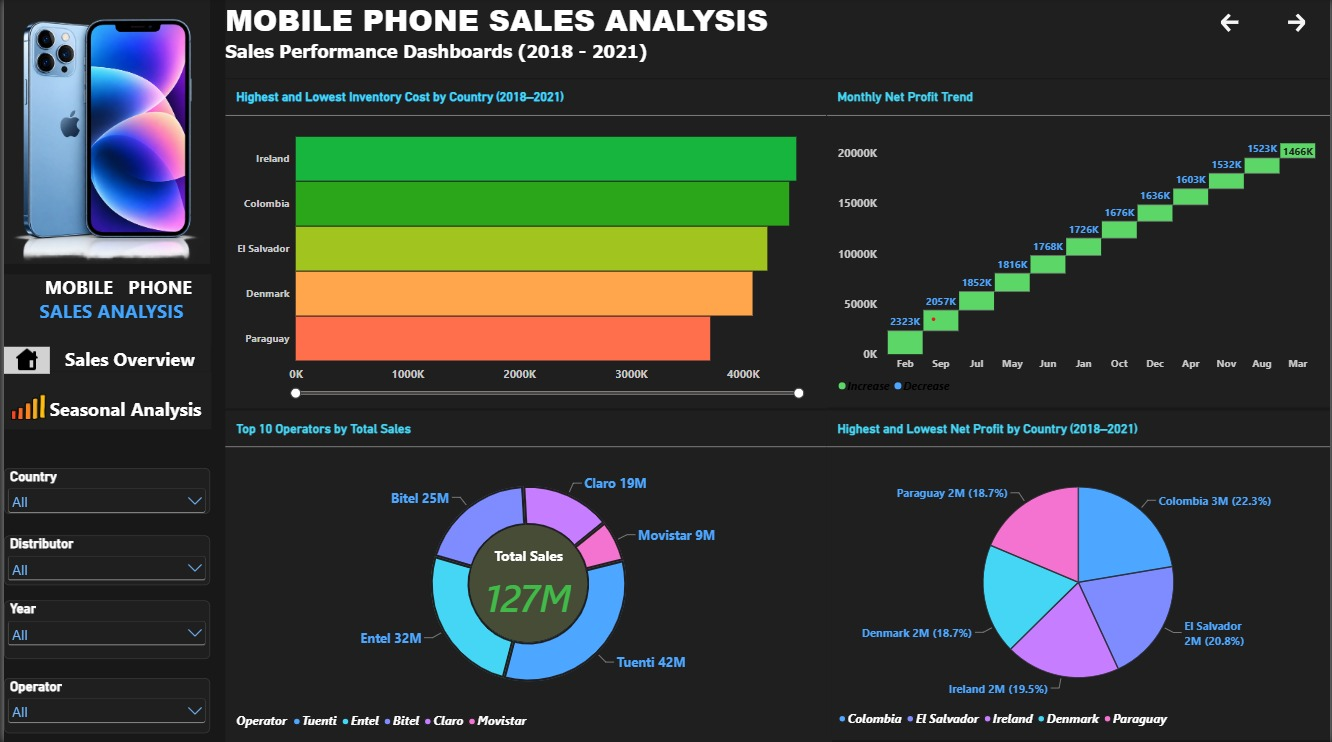

This screenshot's page, from the dashboard's own definition file:
{"tool":"powerbi","page":{"name":"Page 2","canvas":[1920,1080],"ordinal":1},"visuals":[{"type":"waterfallChart","title":"Monthly Net Profit Trend","fields":{"Category":["Date_Phones.Month Name"],"Y":["Mesure.Net Profit"]},"box":[1190.8,117.6,729.3,475],"z":0},{"type":"donutChart","title":"Top 10 Operators by Total Sales","fields":{"Category":["Phone Sales.Operator"],"Y":["Mesure.Total Sales"]},"box":[320.2,597.5,878,482],"z":1000},{"type":"barChart","title":"Highest and Lowest Inventory Cost by Country (2018–2021)","fields":{"Category":["Phone Sales.Country"],"Y":["Mesure.Total Inventory Cost"]},"box":[320.3,117.6,870.4,475.9],"z":2000},{"type":"textbox","box":[320.3,0,1599,115.8],"z":3000},{"type":"slicer","fields":{"Values":["Phone Sales.Country"]},"box":[0,680.4,298.1,66.7],"z":4000},{"type":"slicer","fields":{"Values":["Phone Sales.Distributor"]},"box":[0,778.2,298.1,72.2],"z":5000},{"type":"slicer","fields":{"Values":["Date_Phones.Year"]},"box":[0,872.3,298.1,85.2],"z":6000},{"type":"slicer","fields":{"Values":["Phone Sales.Operator"]},"box":[0,985.2,298.1,79.6],"z":7000},{"type":"image","box":[0,0,298.1,385.2],"z":8000},{"type":"textbox","box":[0,400,300,103.7],"z":9000},{"type":"textbox","box":[0,468.5,299,72],"z":10000},{"type":"textbox","box":[0,540.7,300,83.3],"z":11000},{"type":"image","box":[0,505.6,66.7,38.9],"z":12000},{"type":"image","box":[0,563,66.7,61.1],"z":13000},{"type":"pieChart","title":"Highest and Lowest Net Profit by Country (2018–2021)","fields":{"Category":["Phone Sales.Country"],"Y":["Mesure.Net Profit"]},"box":[1190.7,597.2,729.3,478],"z":14000},{"type":"actionButton","box":[1820.5,0,100,72],"z":15000},{"type":"actionButton","box":[1721,0,108,72],"z":16000}]}

Visuals, with their boxes in screenshot pixels (x1, y1, x2, y2), scaled from the page's 1920x1080 canvas onto the 1332x742 screenshot:
"Monthly Net Profit Trend" waterfallChart: [left=826, top=81, right=1331, bottom=407]
"Top 10 Operators by Total Sales" donutChart: [left=222, top=411, right=831, bottom=741]
"Highest and Lowest Inventory Cost by Country (2018–2021)" barChart: [left=222, top=81, right=826, bottom=408]
textbox: [left=222, top=0, right=1331, bottom=80]
slicer - Phone Sales.Country: [left=0, top=467, right=207, bottom=513]
slicer - Phone Sales.Distributor: [left=0, top=535, right=207, bottom=584]
slicer - Date_Phones.Year: [left=0, top=599, right=207, bottom=658]
slicer - Phone Sales.Operator: [left=0, top=677, right=207, bottom=732]
image: [left=0, top=0, right=207, bottom=265]
textbox: [left=0, top=275, right=208, bottom=346]
textbox: [left=0, top=322, right=207, bottom=371]
textbox: [left=0, top=371, right=208, bottom=429]
image: [left=0, top=347, right=46, bottom=374]
image: [left=0, top=387, right=46, bottom=429]
"Highest and Lowest Net Profit by Country (2018–2021)" pieChart: [left=826, top=410, right=1331, bottom=739]
actionButton: [left=1263, top=0, right=1331, bottom=49]
actionButton: [left=1194, top=0, right=1269, bottom=49]
